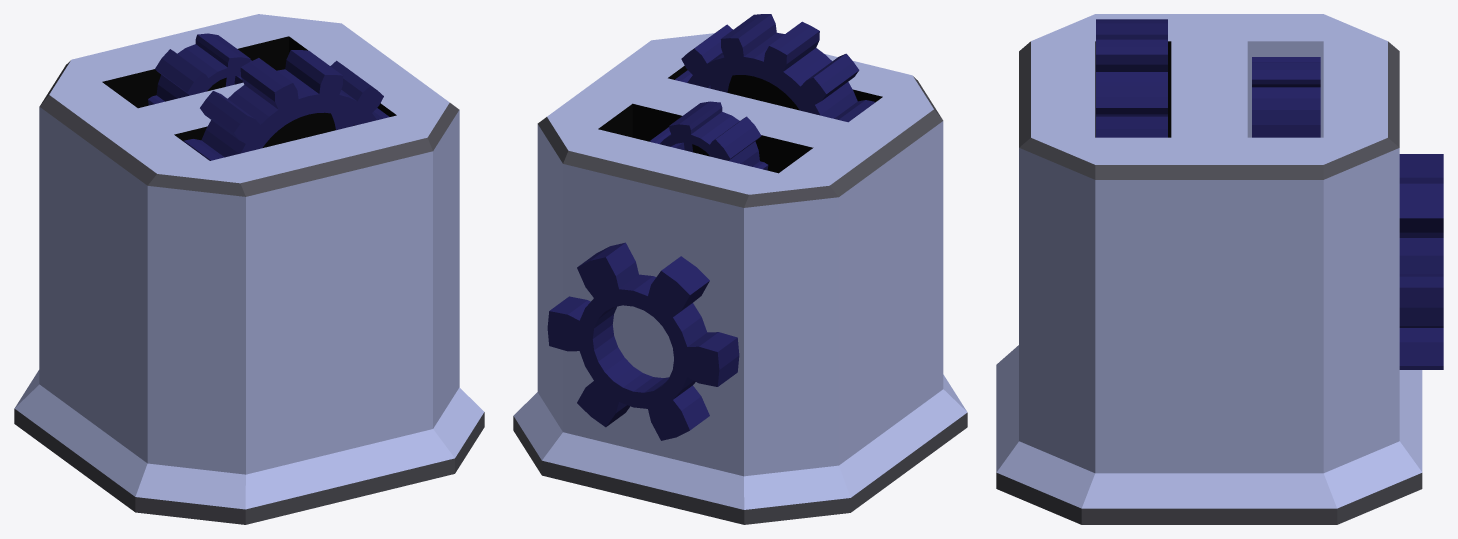
Rendered from Op_Machine.fbx.
The picture shows the model from 3 angles, left to right: view 1: azimuth 30°, elevation 25°; view 2: azimuth 150°, elevation 25°; view 3: azimuth 270°, elevation 25°; orthographic projection. The views are drawn at different scales.
Visible parts, largest first — view 1: Cube; view 2: Cube; view 3: Cube.
Part boxes in pixels (x1,y1,x2,y2): Cube: (14,14,484,524); Cube: (513,14,967,524); Cube: (996,14,1443,524).
Bounding box in the file's own units: 224 × 236 × 235.
